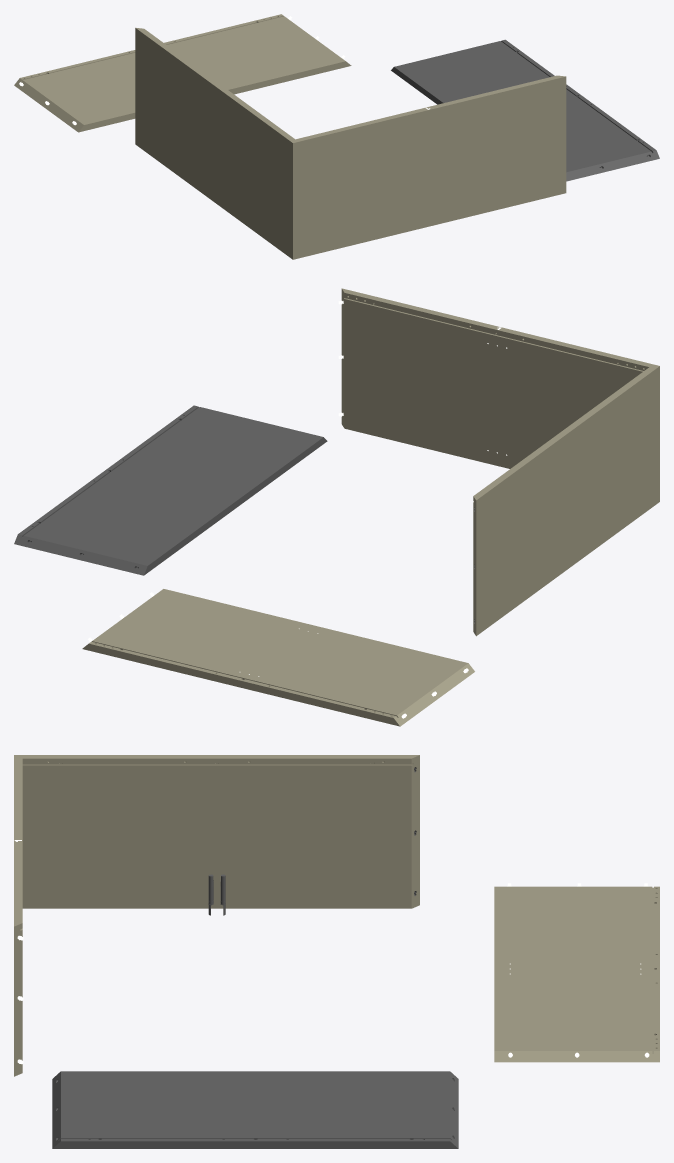
Rendered from Etapes_4.glb.
3 renders of one model, top to bottom at view 1: azimuth 30°, elevation 25°; view 2: azimuth 150°, elevation 25°; view 3: azimuth 270°, elevation 25°, orthographic. The views are drawn at different scales.
Visible parts, largest first — view 1: Cube.002, Cube.001, Cube.003, Cube; view 2: Cube.002, Cube.001, Cube.003, Cube; view 3: Cube.001, Cube, Cube.003, Cube.002.
Part boxes in pixels (x1,y1,x2,y2): Cube.002: [293, 75, 566, 259]; Cube.001: [135, 27, 294, 259]; Cube.003: [14, 14, 351, 132]; Cube: [391, 39, 659, 181]; Cube.002: [338, 288, 658, 468]; Cube.001: [473, 366, 659, 636]; Cube.003: [82, 589, 474, 726]; Cube: [14, 405, 327, 575]; Cube.001: [14, 755, 419, 915]; Cube: [52, 1071, 458, 1148]; Cube.003: [494, 883, 659, 1062]; Cube.002: [14, 755, 23, 1076].
Bounding box in the file's own units: 1.14 × 0.3192 × 1.21.
